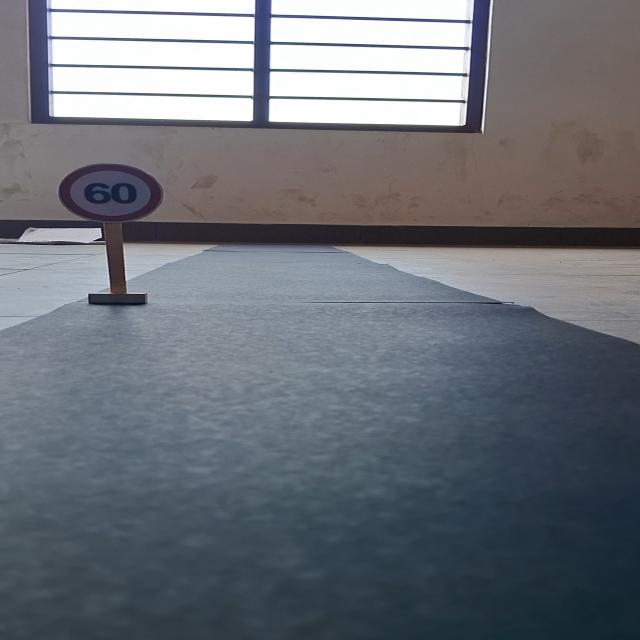Speed60: (58, 163, 162, 220)
